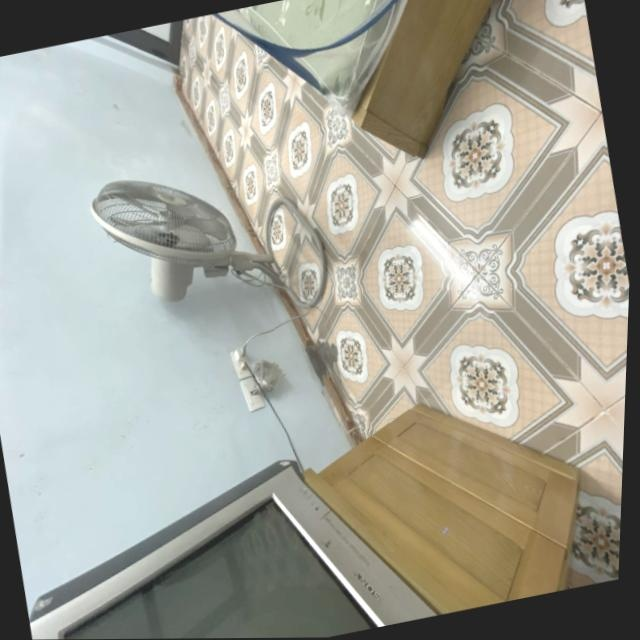outlet: (238, 374, 267, 414), (227, 345, 254, 379)
